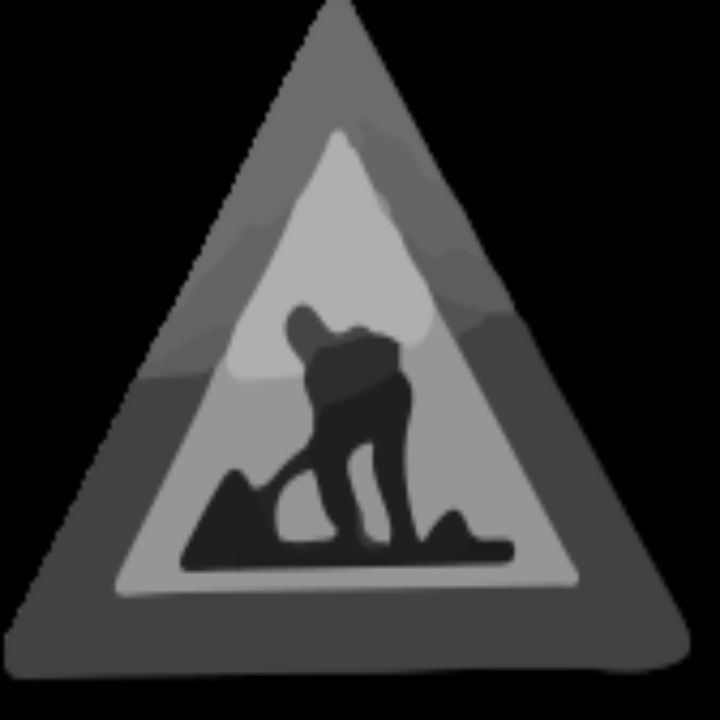const: (144, 272, 553, 582)
